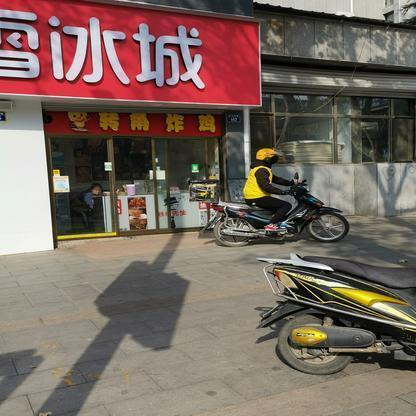target: (210, 143, 352, 246)
